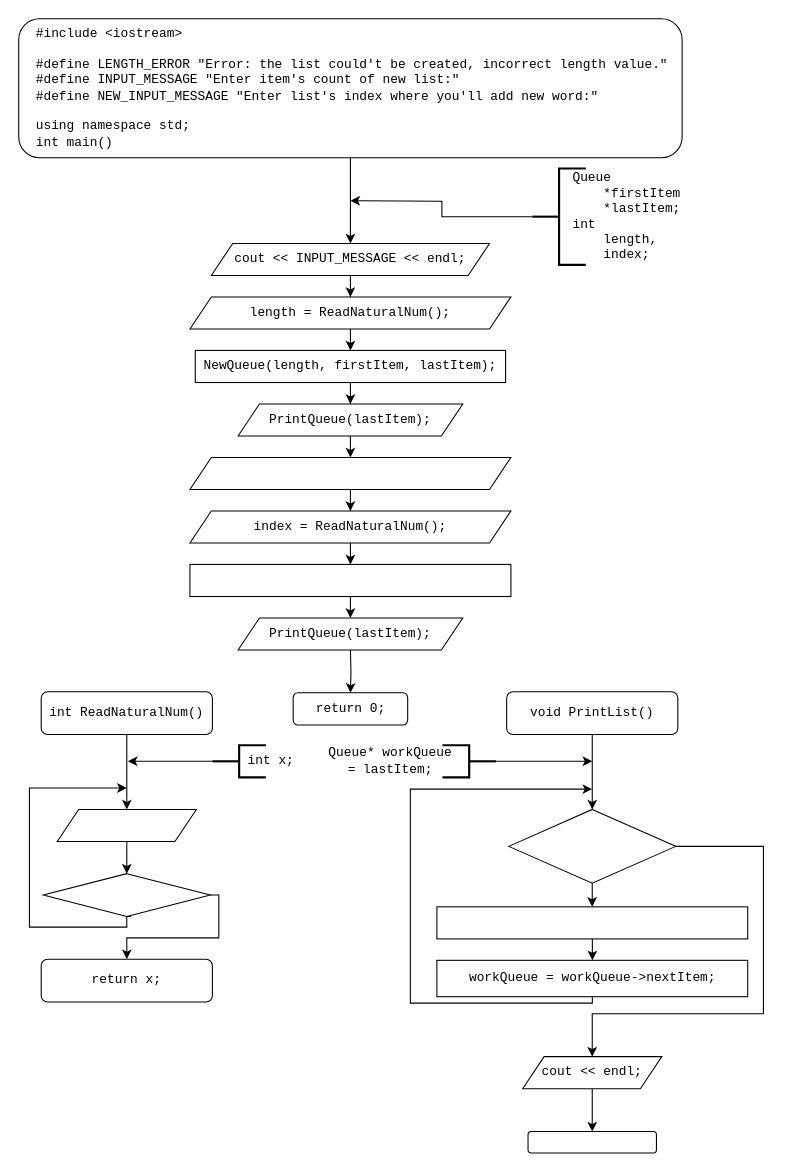
The diagram is 791 pixels wide and 1172 high, and some of its shapes have lost their labels. Each missing label, with the centre of its shape:
AddNewItem(firstItem, lastItem, index);: point (350, 580)
cin >> x;: point (126, 825)
cout << NEW_INPUT_MESSAGE << endl;: point (350, 473)
cout << workQueue->item << " ";: point (592, 922)
while (workQueue != NULL): point (592, 845)
while (x <= 0): point (126, 894)
